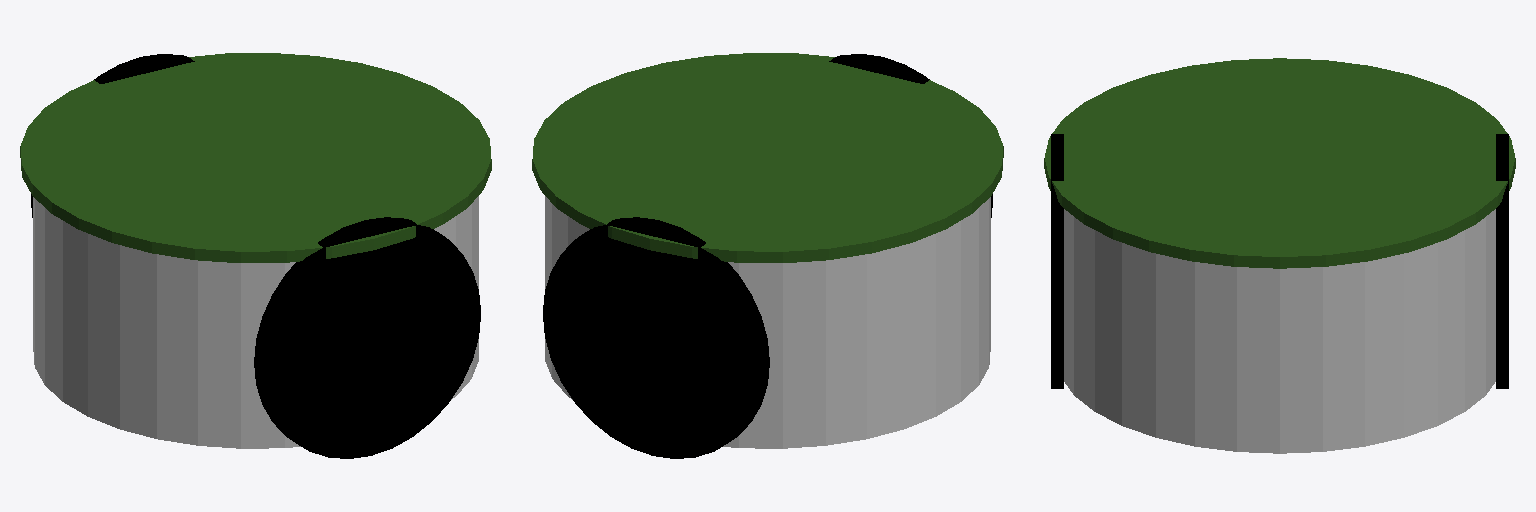
robot.urdf — epuck:
<?xml version="1.0"?>
<!-- Modify by [author]: added inertia and collision tags -->
<!-- weight information (m_tot = 150 g) can be found here: http://www.gctronic.com/e-puck_spec.php -->
<!-- solid cylinder: i_xx = i_yy = i_zz = 1/12 * m * (3*r^2 + h^2) -->

<robot name="epuck">

    <link name="base_link">
        <inertial>
          <origin xyz="0. 0. 0.02" />
          <mass value="0.08"/>
          <inertia ixx="3.220667e-05"  ixy="0.0"  ixz="0.0" iyy="3.220667e-05" iyz="0.0" izz="3.220667e-05" />
        </inertial>
        <visual>
            <geometry>
                <cylinder length="0.034" radius="0.035"/>
            </geometry>
            <origin xyz="0.0 0.0 0.02"/>
            <material name="light_grey">
                <!-- <color rgba="0.8 0.8 0.8 0.5"/> -->
                <color rgba="0.8 0.8 0.8 1"/>
            </material>
        </visual>
        <collision>
          <geometry>
            <cylinder length="0.034" radius="0.035"/>
          </geometry>
          <origin xyz="0.0 0.0 0.02"/>
        </collision>
    </link>

    <link name="right_wheel">
        <inertial>
          <origin rpy="0 1.57075 0"/>
          <mass value="0.02"/>
          <inertia ixx="2.006667e-06"  ixy="0.0"  ixz="0.0" iyy="2.006667e-06" iyz="0.0" izz="2.006667e-06" />
        </inertial>
        <visual>
            <geometry>
                <cylinder length="0.002" radius="0.02"/>
            </geometry>
            <origin rpy="0 1.57075 0"/>
            <material name="black">
                <color rgba="0.0 0.0 0.0 1"/>
            </material>
        </visual>
        <collision>
          <geometry>
            <cylinder length="0.002" radius="0.02"/>
          </geometry>
          <origin rpy="0 1.57075 0"/>
        </collision>
    </link>

    <joint name="base_to_right_wheel" type="continuous">
        <parent link="base_link"/>
        <child link="right_wheel"/>
        <origin rpy="0 0 1.57075" xyz="0.0 -0.035 0.02"/>
        <axis xyz="1 0 0"/>
    </joint>

    <link name="left_wheel">
        <inertial>
          <origin rpy="0 1.57075 0"/>
          <mass value="0.02"/>
          <inertia ixx="2.006667e-06"  ixy="0.0"  ixz="0.0" iyy="2.006667e-06" iyz="0.0" izz="2.006667e-06" />
        </inertial>
        <visual>
            <geometry>
                <cylinder length="0.002" radius="0.02"/>
            </geometry>
            <origin rpy="0 1.57075 0"/>
            <material name="black">
                <color rgba="0.0 0.0 0.0 1"/>
            </material>
        </visual>
        <collision>
          <geometry>
            <cylinder length="0.002" radius="0.02"/>
          </geometry>
          <origin rpy="0 1.57075 0"/>
        </collision>
    </link>

    <joint name="base_to_left_wheel" type="continuous">
        <parent link="base_link"/>
        <child link="left_wheel"/>
        <origin rpy="0 0 1.57075" xyz="0.0 0.035 0.02"/>
        <axis xyz="1 0 0"/>
    </joint>

    <link name="body_top">
        <inertial>
          <mass value="0.03"/>
          <inertia ixx="1.02775e-5"  ixy="0.0"  ixz="0.0" iyy="1.02775e-5" iyz="0.0" izz="1.02775e-5" />
        </inertial>
        <visual>
            <geometry>
                <cylinder length="0.002" radius="0.037"/>
            </geometry>
            <material name="green_pcb">
                <color rgba="0.23 0.4 0.16 1.0"/>
            </material>
        </visual>
        <collision>
          <geometry>
            <cylinder length="0.002" radius="0.037"/>
          </geometry>
        </collision>
    </link>

    <joint name="base_to_body_top" type="fixed">
        <parent link="base_link"/>
        <child link="body_top"/>
        <origin xyz="0.0 0.0 0.037"/>
    </joint>

</robot>

--- What the picture shows (computed from the rendered views, not written in the file) ---
3 views of the same robot in one strip: view 1: azimuth 30°, elevation 25°; view 2: azimuth 150°, elevation 25°; view 3: azimuth 270°, elevation 25° (orthographic).
Robot: epuck — 4 links, 3 joints (2 continuous, 1 fixed); root link base_link; default pose: all joints at 0.
Links seen in each view (by area): view 1: body_top, base_link, right_wheel, left_wheel; view 2: body_top, base_link, left_wheel, right_wheel; view 3: base_link, body_top, right_wheel, left_wheel.
Boxes of the visible links, bbox=[...] form: body_top: bbox=[20, 53, 491, 262]; base_link: bbox=[33, 196, 478, 448]; right_wheel: bbox=[254, 217, 480, 458]; left_wheel: bbox=[31, 54, 194, 217]; body_top: bbox=[532, 53, 1003, 262]; base_link: bbox=[545, 196, 990, 448]; left_wheel: bbox=[543, 217, 769, 458]; right_wheel: bbox=[829, 54, 992, 217]; base_link: bbox=[1064, 209, 1495, 453]; body_top: bbox=[1044, 58, 1515, 268]; right_wheel: bbox=[1051, 134, 1063, 388]; left_wheel: bbox=[1496, 134, 1508, 388].
Bounding box of the posed robot: 0.074 × 0.074 × 0.04 m (x, y, z).
Geometry: primitives only (box / cylinder / sphere), no mesh files.